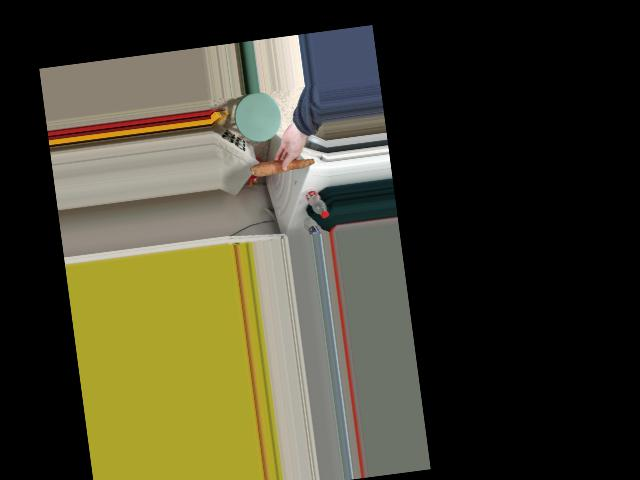sweet_potato: (250, 150, 316, 178)
